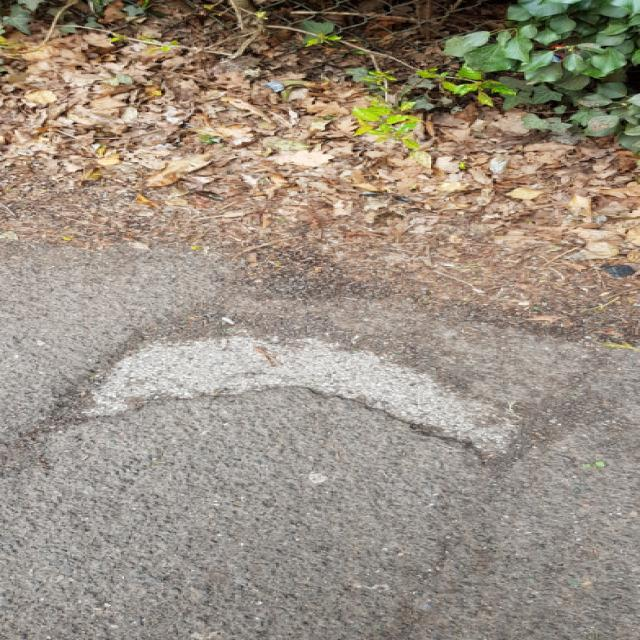Pothole: (32, 314, 538, 464)
